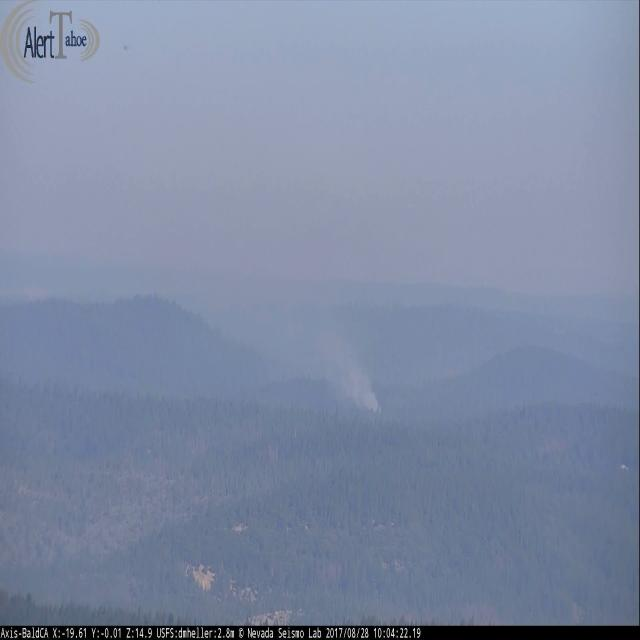smoke: (336, 346, 381, 414)
